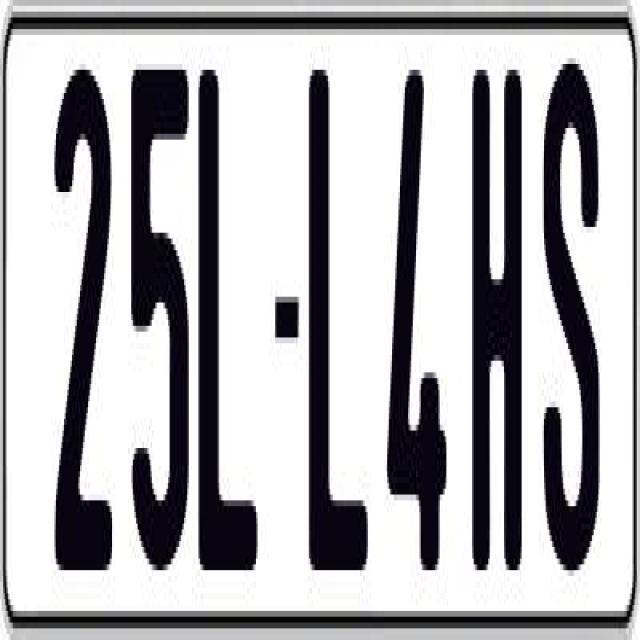2: (51, 70, 109, 582)
4: (386, 64, 448, 576)
5: (128, 58, 195, 570)
H: (467, 70, 525, 606)
L: (304, 70, 370, 600), (197, 70, 266, 570)
S: (544, 64, 605, 594)
